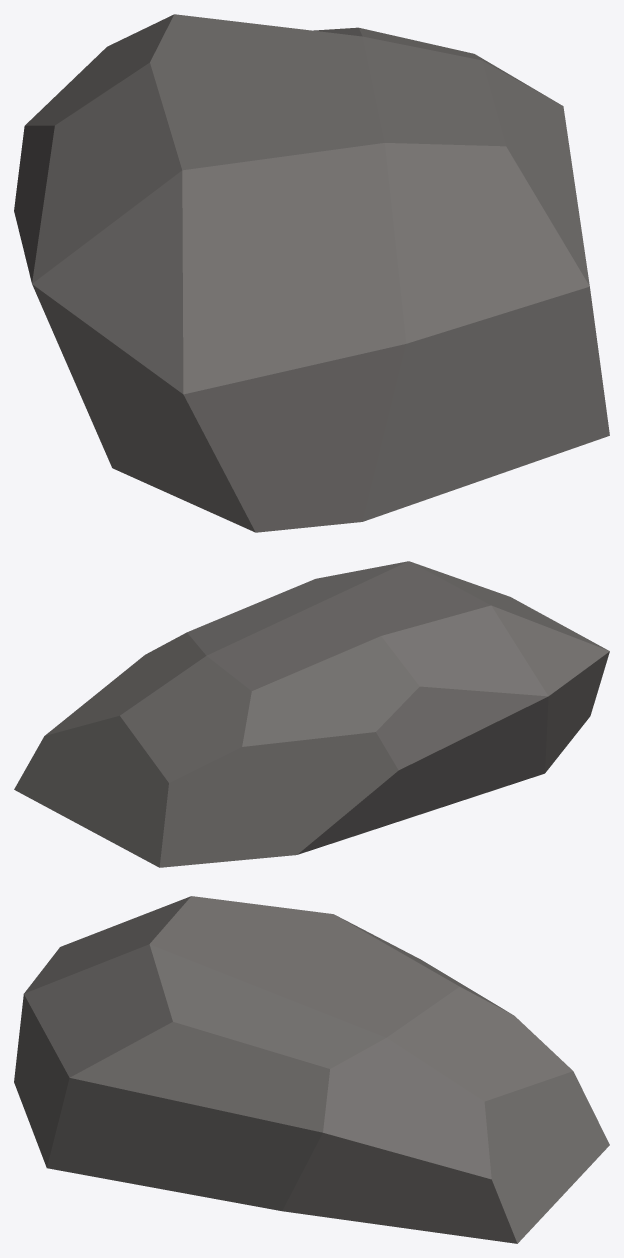
The model's file is Rock4.fbx.
3 renders of one model, top to bottom at view 1: azimuth 30°, elevation 25°; view 2: azimuth 150°, elevation 25°; view 3: azimuth 270°, elevation 25°, orthographic. The views are drawn at different scales.
Parts seen in each view (by area): view 1: Rock4; view 2: Rock4; view 3: Rock4.
Part boxes in pixels (x1=…): Rock4: x1=14, y1=14, x2=609, y2=532; Rock4: x1=14, y1=561, x2=609, y2=867; Rock4: x1=14, y1=896, x2=609, y2=1243.
Bounding box in the file's own units: 67.47 × 26.81 × 78.75.
